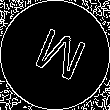M_SW: (24, 23, 86, 87)
